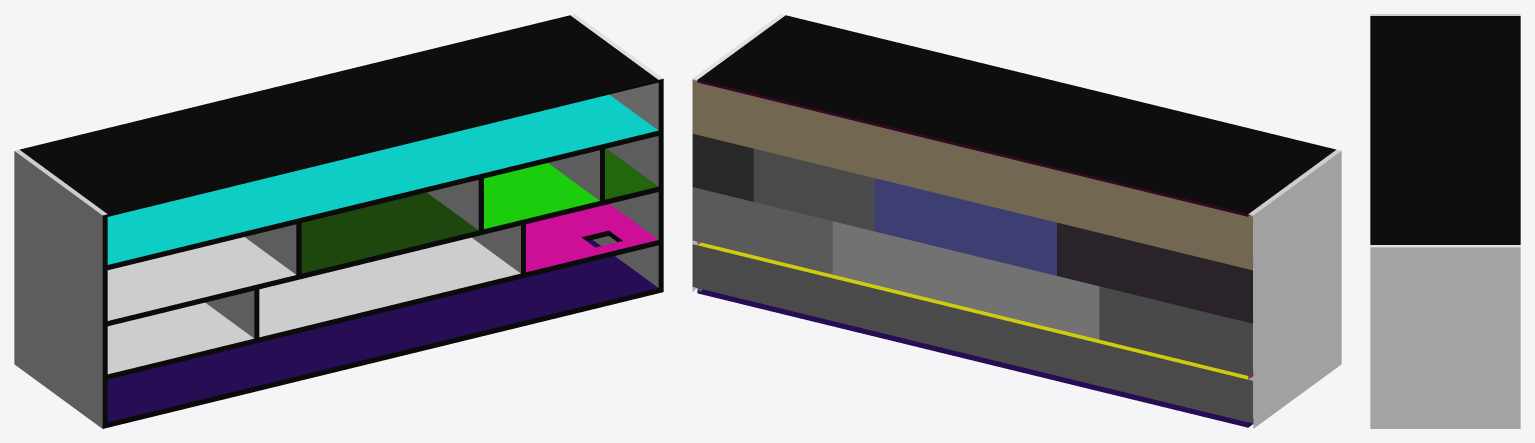
The model's file is house.fbx.
The picture shows the model from 3 angles, left to right: view 1: azimuth 30°, elevation 25°; view 2: azimuth 150°, elevation 25°; view 3: azimuth 270°, elevation 25°; orthographic projection. The views are drawn at different scales.
Parts seen in each view (by area): view 1: RoofFloor.001, Cube.016, Cube.013, Cube.014, Cube.015, Cube.012, Cube.001, Cube.011; view 2: RoofFloor.001, Plane.002, Plane.001, Plane.003, Plane, Cube.012, Cube.013, Cube.014, Cube.011; view 3: RoofFloor.001, Cube.011, Cube.012.
Boxes of the visible parts, <box> form: RoofFloor.001: <box>20,15,658,216</box>; Cube.016: <box>107,94,658,269</box>; Cube.013: <box>107,240,658,427</box>; Cube.014: <box>107,204,658,379</box>; Cube.015: <box>107,148,658,326</box>; Cube.012: <box>14,149,107,428</box>; Cube.001: <box>205,149,604,338</box>; Cube.011: <box>570,14,663,292</box>; RoofFloor.001: <box>697,15,1335,216</box>; Plane.002: <box>692,134,1252,323</box>; Plane.001: <box>692,187,1252,376</box>; Plane.003: <box>692,80,1252,270</box>; Plane: <box>692,244,1252,423</box>; Cube.012: <box>1248,149,1341,428</box>; Cube.013: <box>697,288,1253,427</box>; Cube.014: <box>697,242,1253,379</box>; Cube.011: <box>692,14,785,291</box>; RoofFloor.001: <box>1370,16,1520,244</box>; Cube.011: <box>1370,245,1520,428</box>; Cube.012: <box>1370,14,1520,15</box>.
Bounding box in the file's own units: 22000 × 8000 × 6000.
